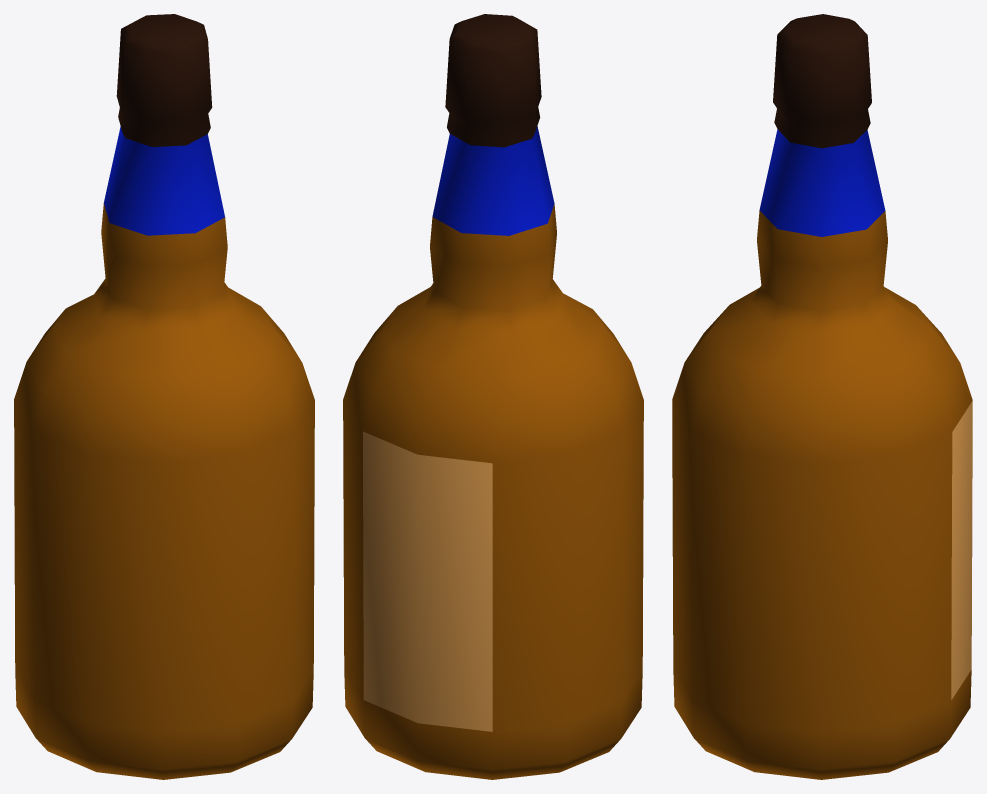
The model's file is BrownBlueRibbon.fbx.
The picture shows the model from 3 angles, left to right: view 1: azimuth 30°, elevation 25°; view 2: azimuth 150°, elevation 25°; view 3: azimuth 270°, elevation 25°; orthographic projection.
Visible parts, largest first — view 1: BrownBlueRibbon; view 2: BrownBlueRibbon; view 3: BrownBlueRibbon.
Boxes of the visible parts, x1,y1,x2,y2 form: BrownBlueRibbon: (14,14,314,779); BrownBlueRibbon: (343,14,643,779); BrownBlueRibbon: (672,14,972,779).
Size of the model in its own units: 9.56 by 24.34 by 9.56.
